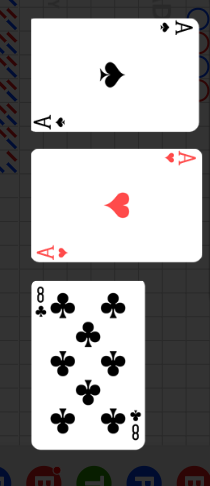8C: (128, 407, 142, 442)
AH: (35, 243, 70, 260)
AS: (156, 20, 194, 37)
